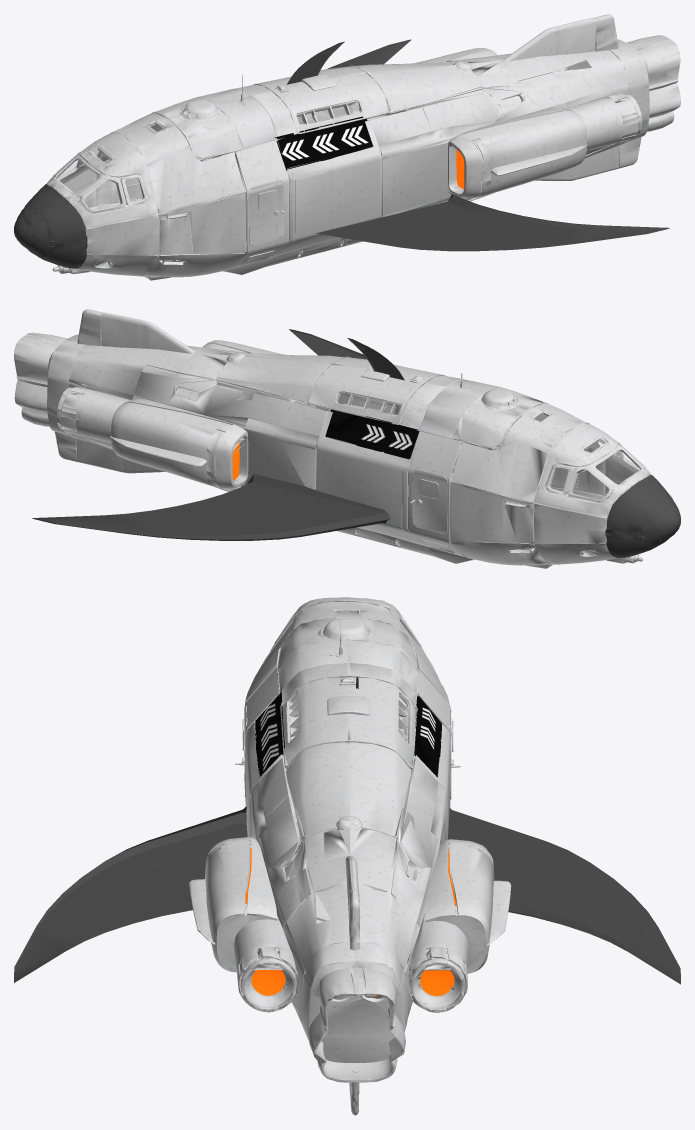
The model's file is submarinespaceship_nautilus-31.glb.
3 renders of one model, top to bottom at view 1: azimuth 30°, elevation 25°; view 2: azimuth 150°, elevation 25°; view 3: azimuth 270°, elevation 25°, orthographic. The views are drawn at different scales.
Visible parts, largest first — view 1: Submarine Spaceship1, Plane.002, Plane.001, Plane; view 2: Submarine Spaceship1, Plane.004, Plane.005; view 3: Submarine Spaceship1.
Part boxes in pixels (x1,y1,x2,y2): Submarine Spaceship1: (14,14,680,280); Plane.002: (274,130,314,170); Plane.001: (304,123,344,162); Plane: (333,116,373,154); Submarine Spaceship1: (14,309,680,568); Plane.004: (356,416,391,452); Plane.005: (383,424,419,459); Submarine Spaceship1: (14,597,680,1115).
Bounding box in the file's own units: 4.08 × 1.16 × 2.78.
Materials: 8 (4 with a texture image).
